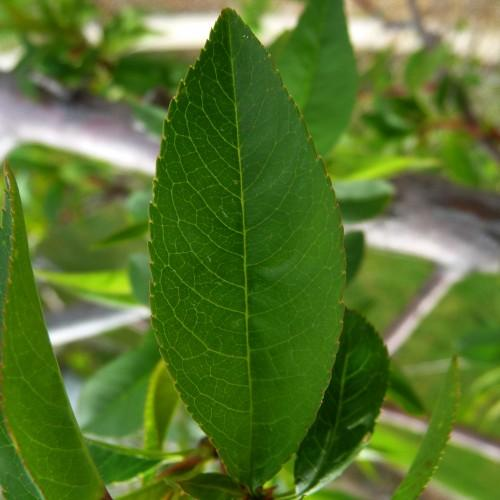Peach leaf: (126, 5, 348, 500)
